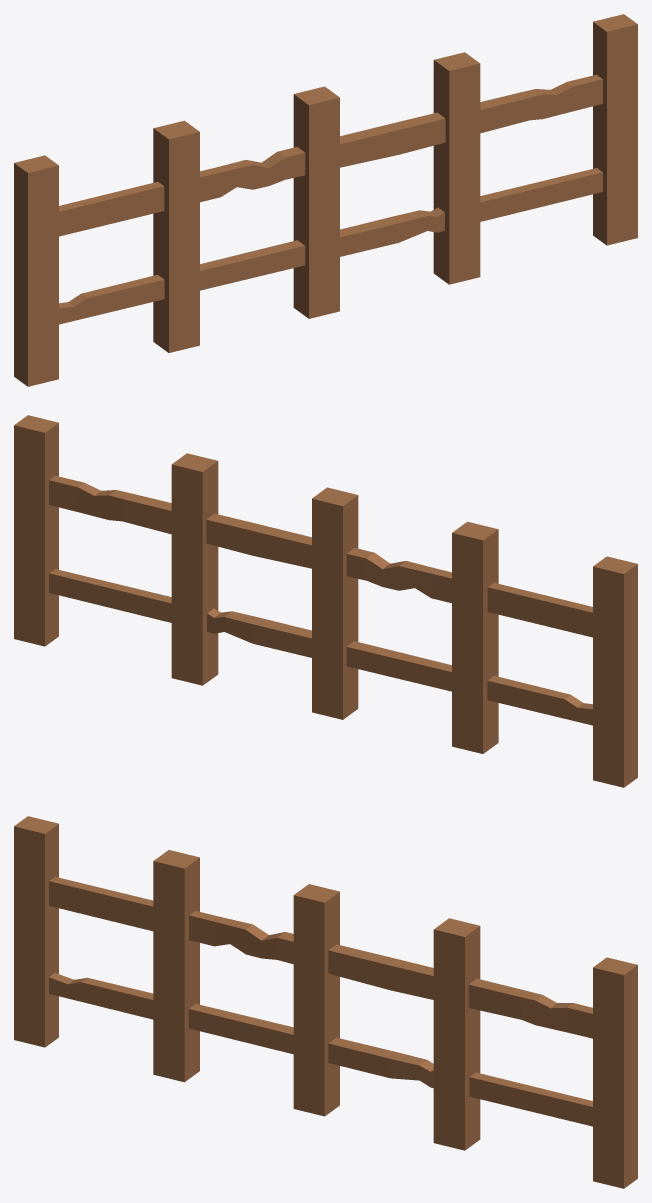
Rendered from Fence.glb.
3 views of the same model, one above another, from view 1: azimuth 30°, elevation 25°; view 2: azimuth 150°, elevation 25°; view 3: azimuth 330°, elevation 25° (orthographic).
Parts seen in each view (by area): view 1: Fence; view 2: Fence; view 3: Fence.
Part boxes in pixels (x1,y1,x2,y2): Fence: (14,14,637,386); Fence: (14,415,637,787); Fence: (14,816,637,1188).
Bounding box in the file's own units: 3.28 × 1.1 × 0.1428.
